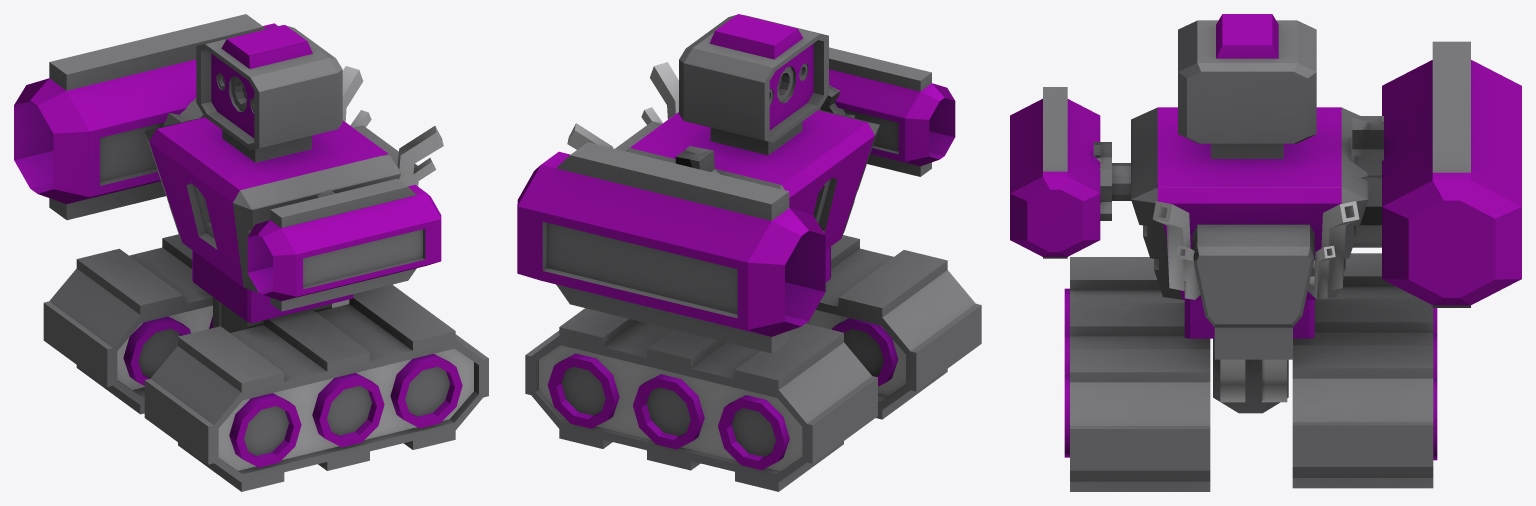
Rendered from Enemy2_Idle3.obj.
The picture shows the model from 3 angles, left to right: view 1: azimuth 30°, elevation 25°; view 2: azimuth 150°, elevation 25°; view 3: azimuth 270°, elevation 25°; orthographic projection. The views are drawn at different scales.
Parts seen in each view (by area): view 1: Object006, Object007, Object010; view 2: Object006, Object007, Object010, Object009; view 3: Object006, Object007, Object010, Object009, Object008.
Part boxes in pixels (box(x1,y1,x2,y2)): Object006: box(14, 14, 488, 491); Object007: box(144, 25, 400, 332); Object010: box(332, 66, 443, 307); Object006: box(517, 47, 981, 491); Object007: box(627, 14, 879, 323); Object010: box(567, 62, 678, 151); Object009: box(675, 146, 720, 174); Object006: box(1010, 41, 1521, 491); Object007: box(1131, 14, 1368, 413); Object010: box(1153, 201, 1359, 402); Object009: box(1352, 116, 1383, 247); Object008: box(1093, 142, 1131, 220).
Bounding box in the file's own units: 87.45 × 109 × 125.
